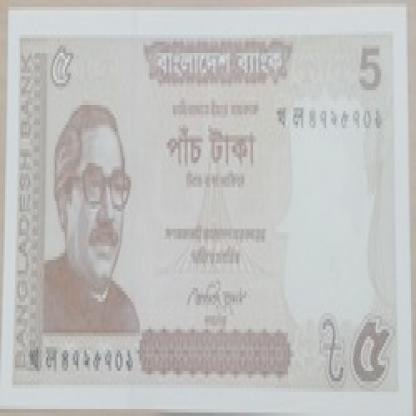Five Taka: (359, 38, 383, 101), (46, 42, 75, 94), (353, 309, 354, 312)
